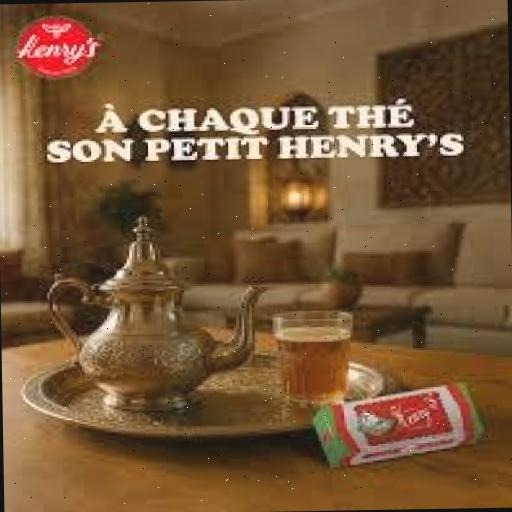golden: (242, 330, 507, 500)
